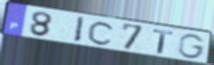7: (121, 22, 145, 52)
8: (29, 11, 54, 38)
C: (86, 20, 117, 47)
G: (177, 33, 207, 60)
I: (72, 16, 86, 45)
T: (152, 28, 174, 55)
